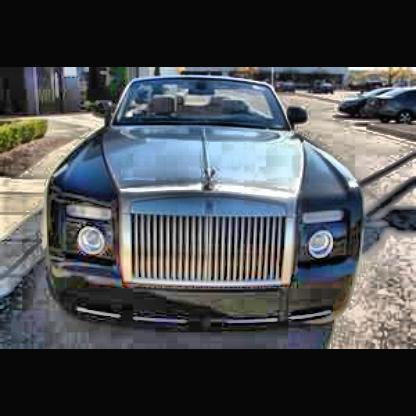Rolls-Royce Phantom Drophead Coupe Convertible 2012: (48, 72, 366, 336)
